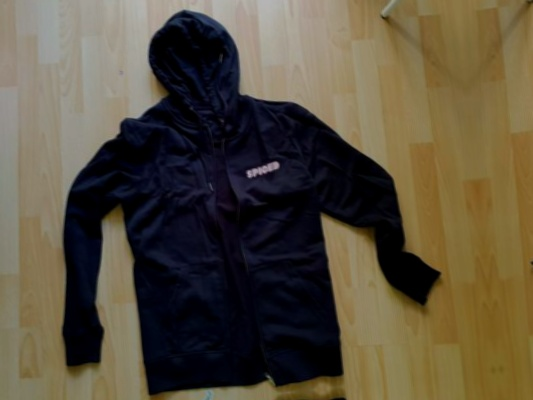Hoodie: (13, 0, 462, 400), (488, 0, 533, 350), (57, 390, 507, 400), (533, 338, 533, 400)
